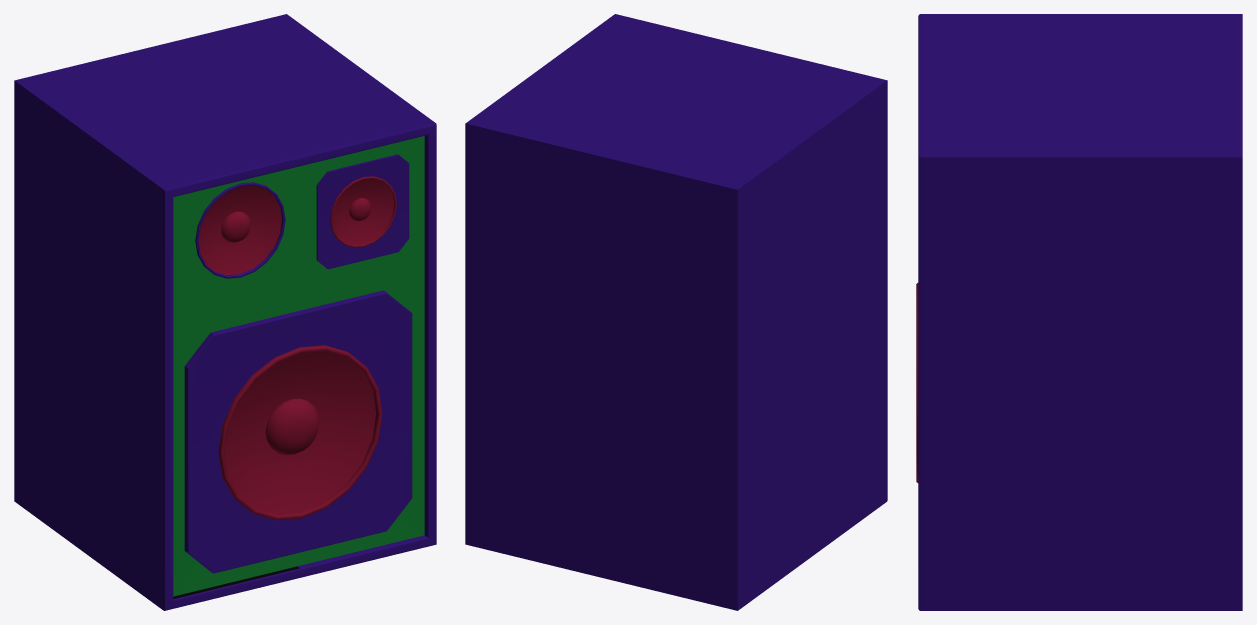
Rendered from SM_enceinte.fbx.
The picture shows the model from 3 angles, left to right: view 1: azimuth 30°, elevation 25°; view 2: azimuth 150°, elevation 25°; view 3: azimuth 270°, elevation 25°; orthographic projection. The views are drawn at different scales.
Parts seen in each view (by area): view 1: enceinte_lp; view 2: enceinte_lp; view 3: enceinte_lp.
Boxes of the visible parts, <box> form: enceinte_lp: <box>14,14,436,610</box>; enceinte_lp: <box>465,14,887,610</box>; enceinte_lp: <box>916,14,1242,610</box>.
Size of the model in its own units: 88.85 by 131 by 85.49.
